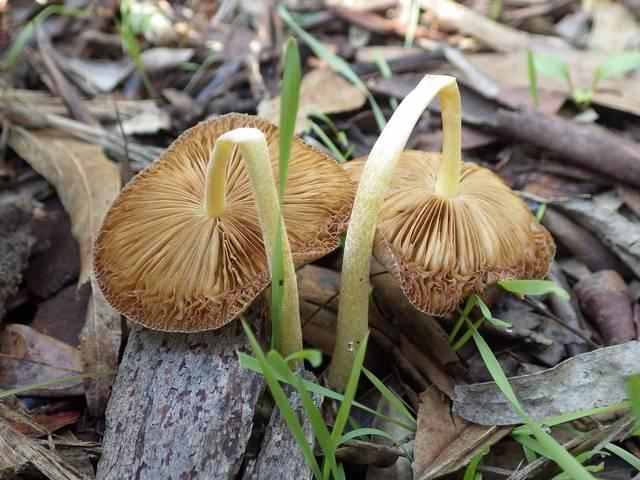edible_mushroom: (90, 110, 355, 334), (338, 72, 557, 317)
